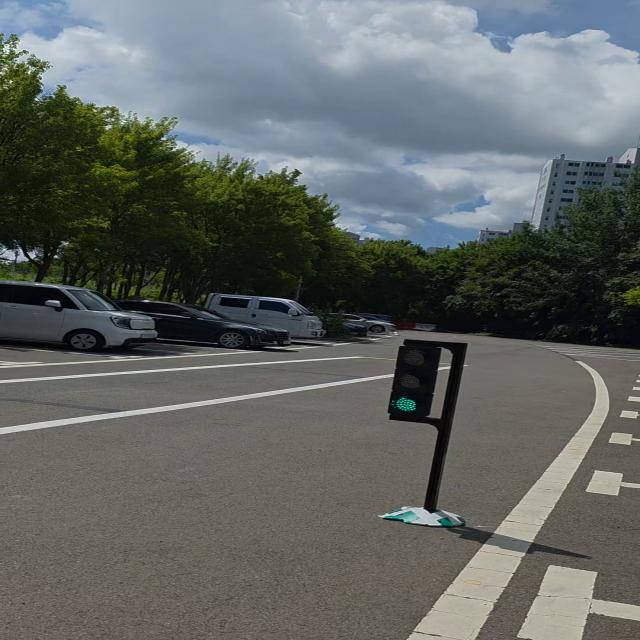green: (387, 341, 447, 420)
